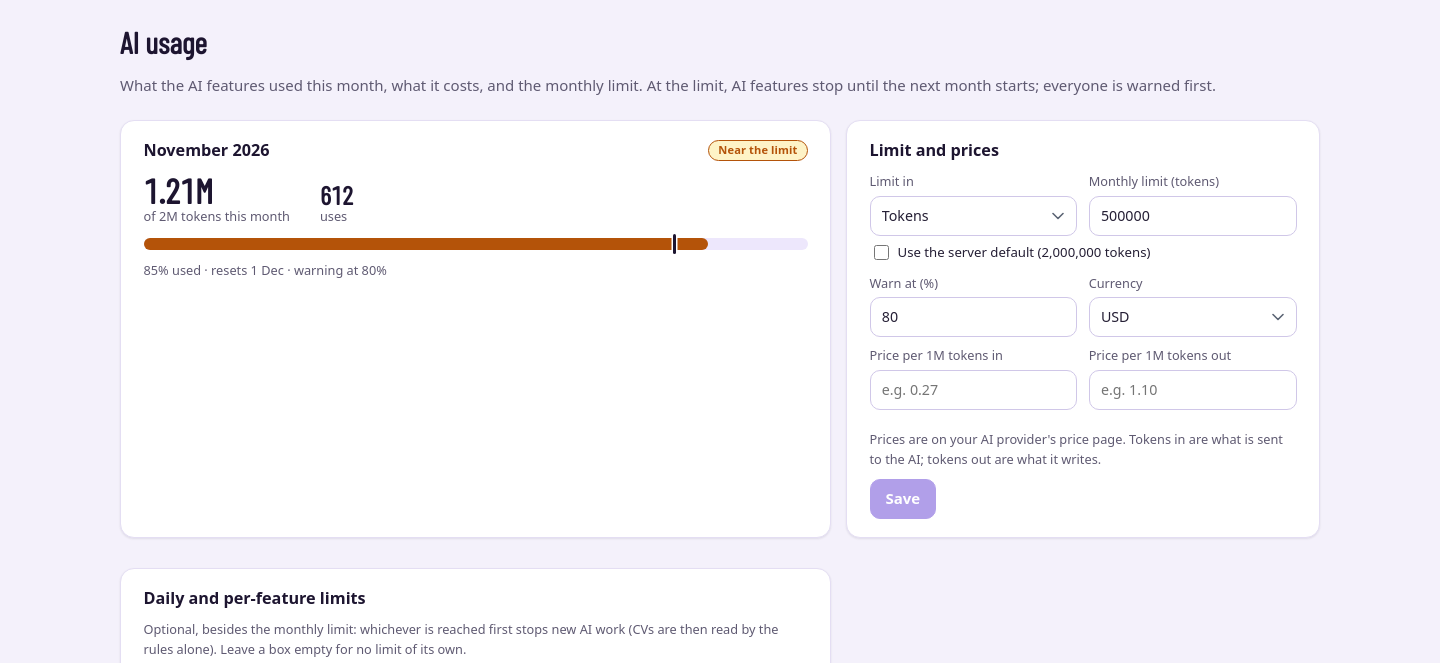
Settings › AI usage › shows a problem with the limit of the kind not in use
This screenshot has width=1440, height=663.
Clear the field labelled "Monthly limit (tokens)". click: point(1193, 216)
box: x1=1089 y1=196 x2=1296 y2=236
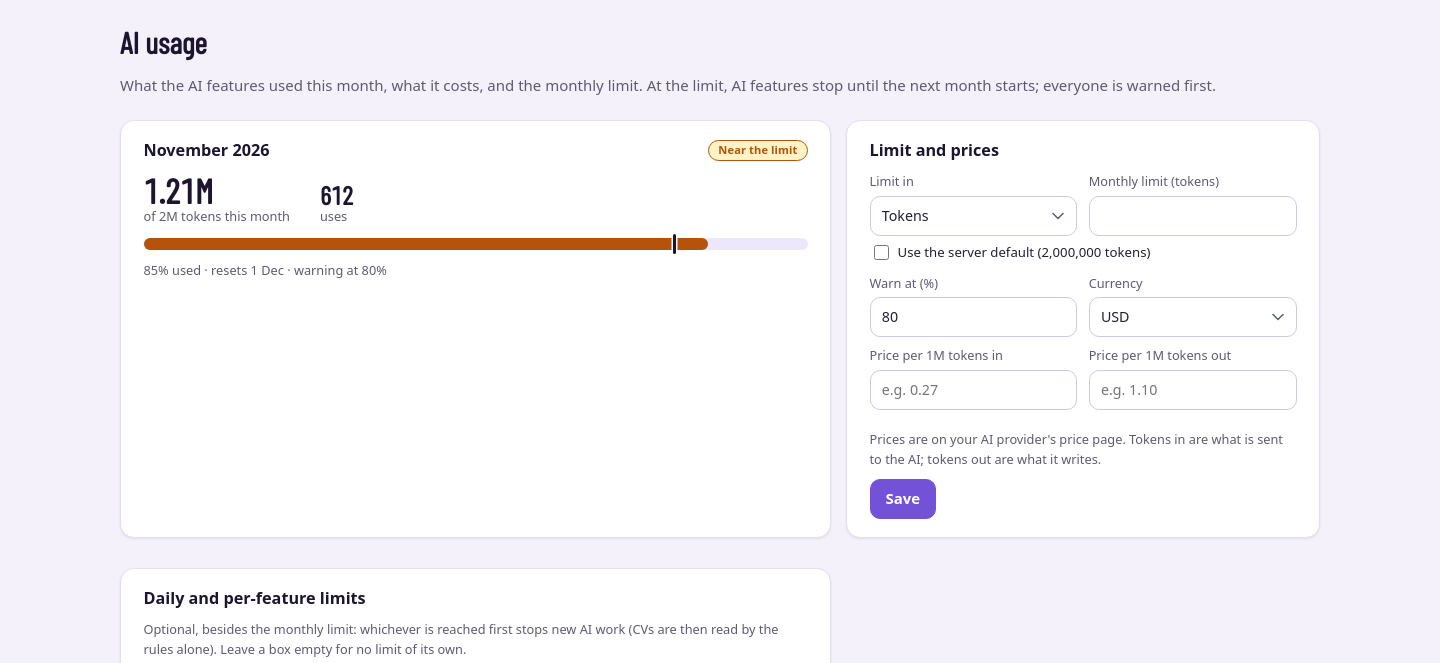
Select "Money" in the dropdown labelled "Limit in". click: point(973, 216)
box: x1=870 y1=196 x2=1077 y2=236
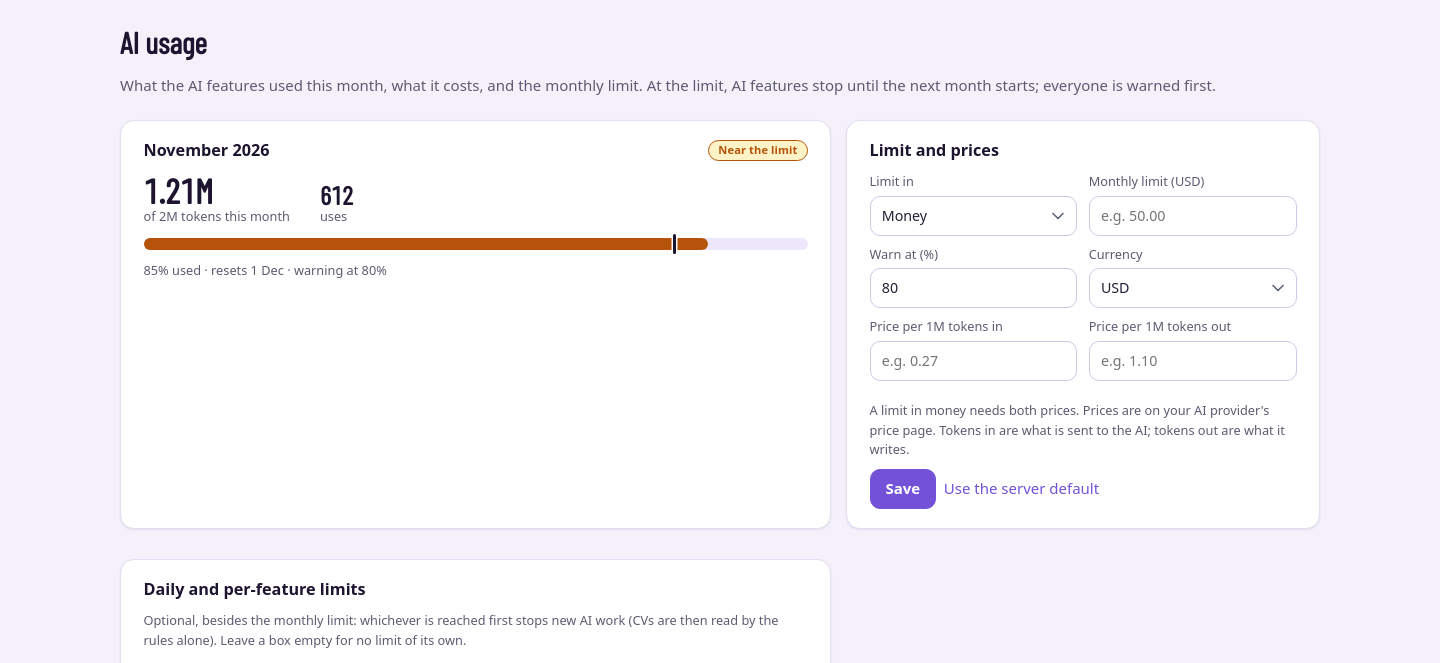
Type "50.00" into the field labelled "Monthly limit (USD)". click: point(1193, 216)
box: x1=1089 y1=196 x2=1296 y2=236
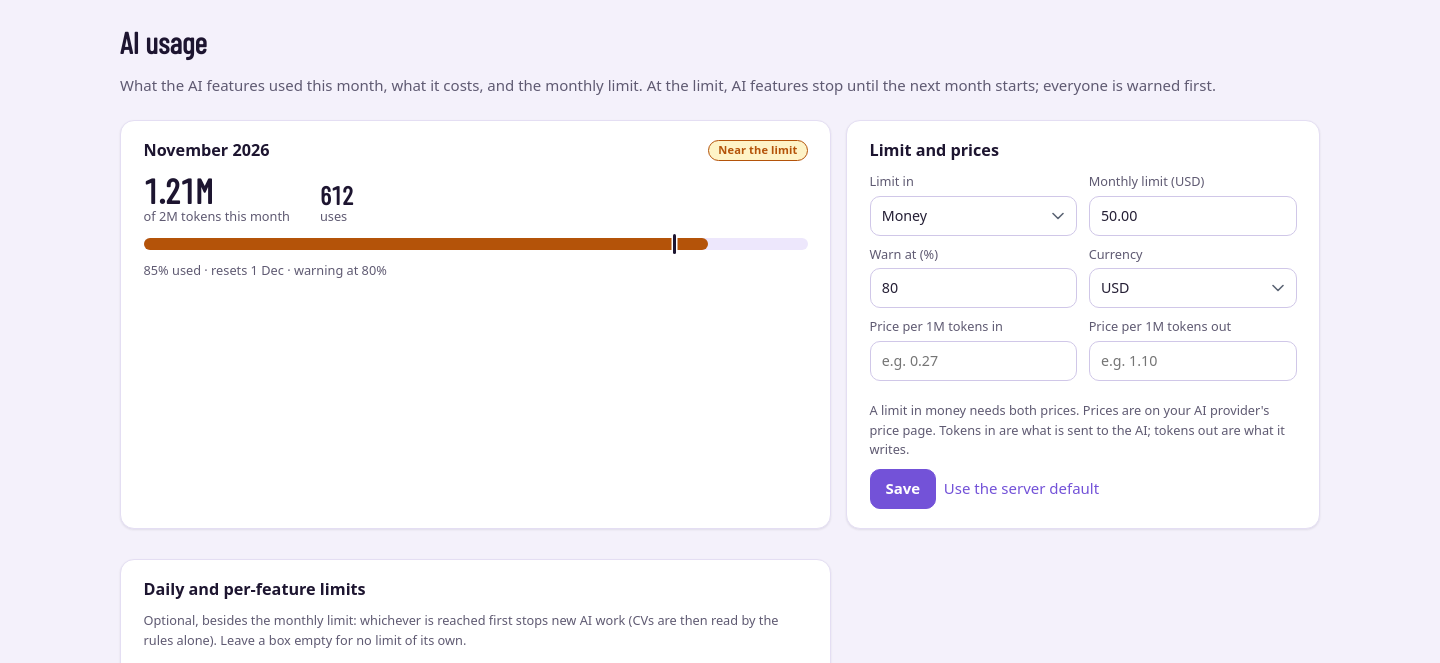
Type "0.27" into the field labelled "Price per 1M tokens in". click: point(973, 361)
box: x1=870 y1=341 x2=1077 y2=381
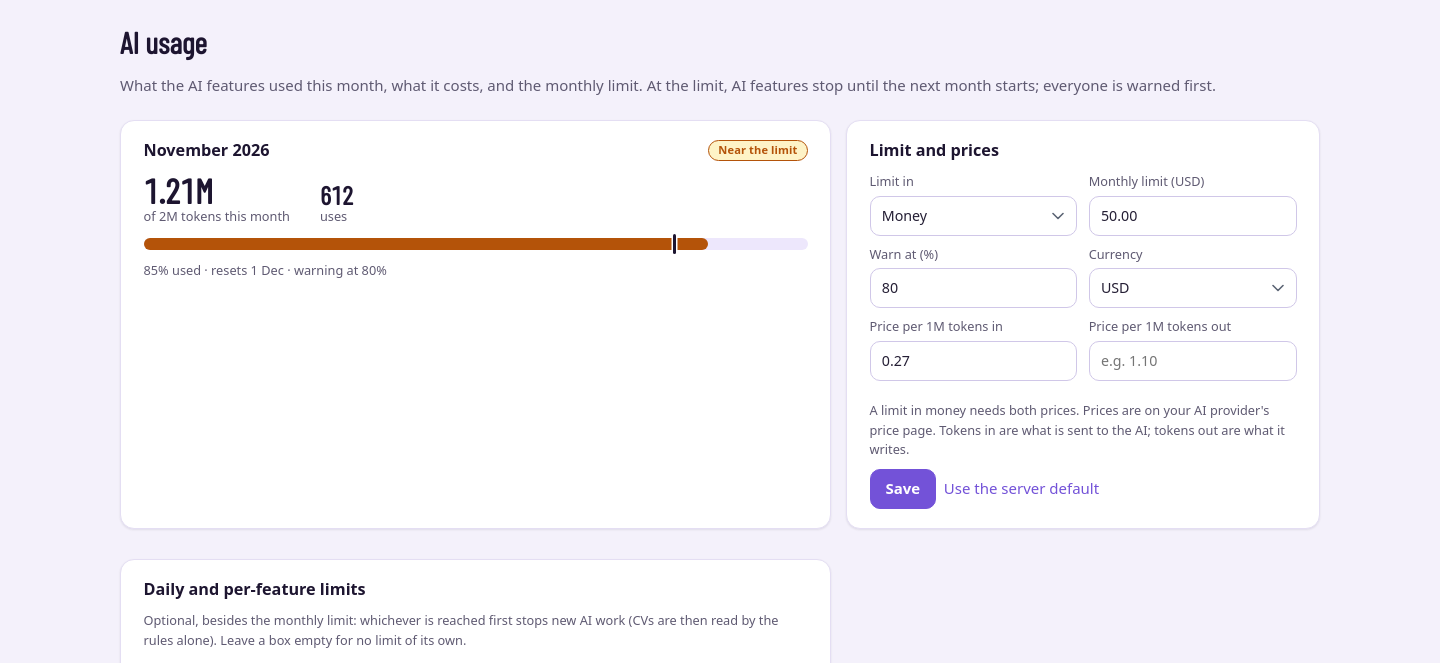
Type "1.10" into the field labelled "Price per 1M tokens out". click: point(1193, 361)
box: x1=1089 y1=341 x2=1296 y2=381
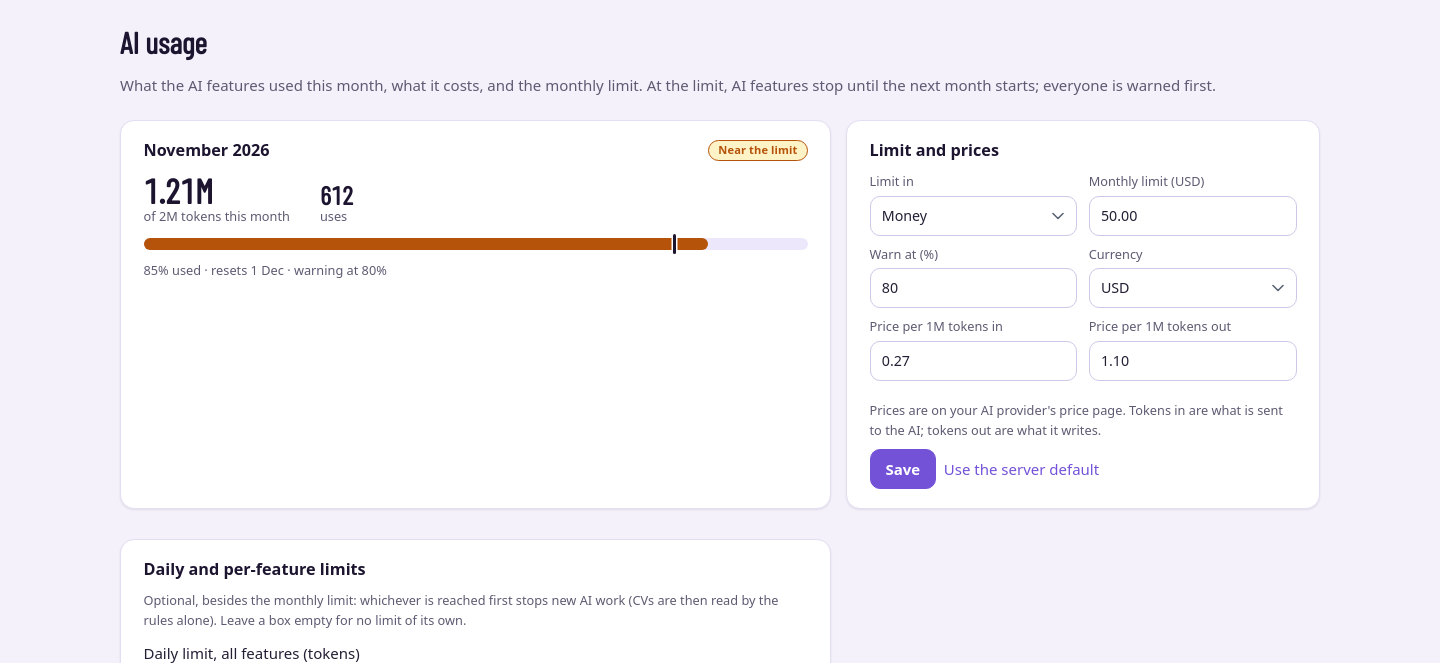
Click the button "Save". click: point(903, 469)
box: x1=870 y1=449 x2=936 y2=489
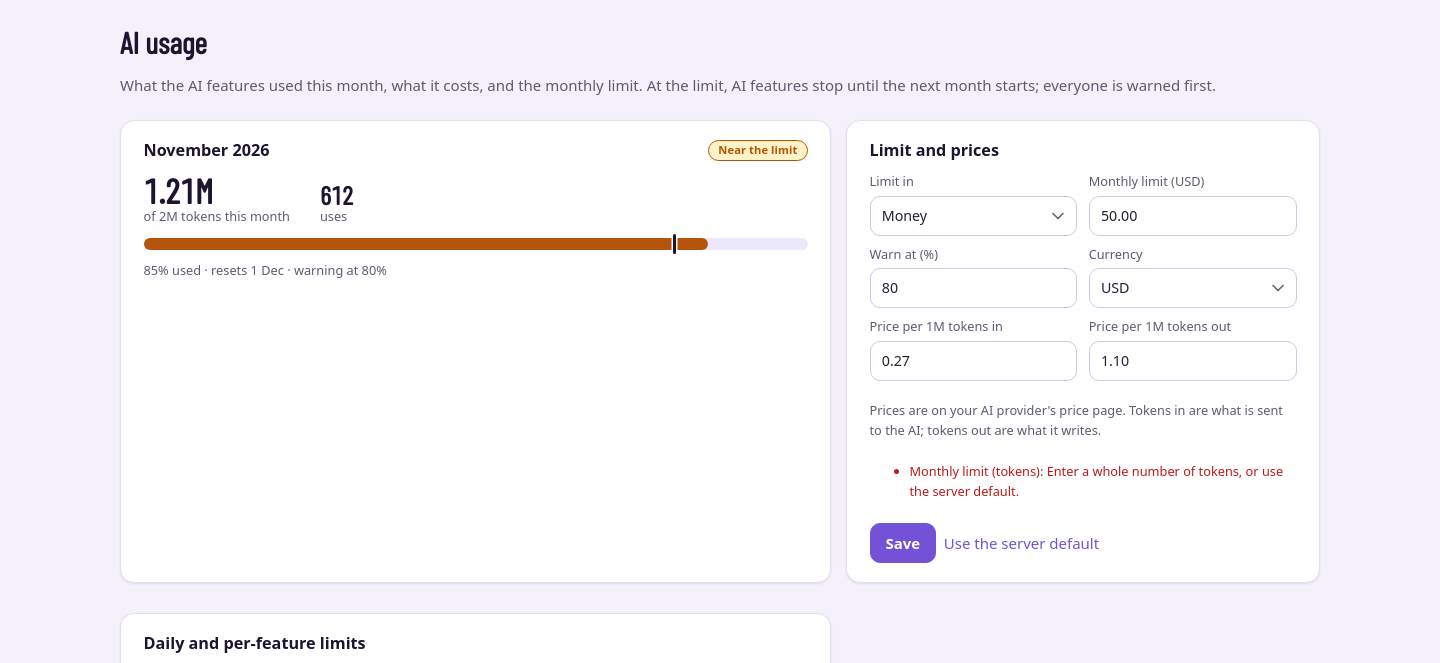
Result: the message shows "Monthly limit (tokens): Enter a whole number of tokens, or use the server default." at x1=870 y1=462 x2=1296 y2=502
